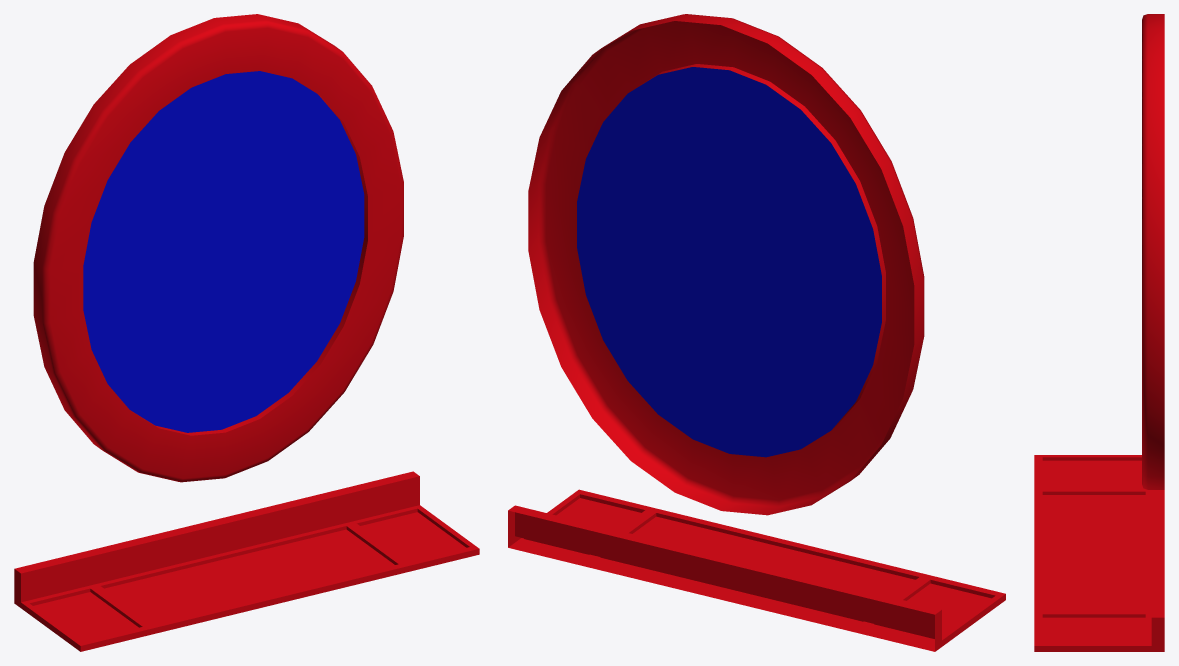
The model's file is bath_mirror.FBX.
3 views of the same model, side by side, from view 1: azimuth 30°, elevation 25°; view 2: azimuth 150°, elevation 25°; view 3: azimuth 270°, elevation 25° (orthographic). The views are drawn at different scales.
Parts seen in each view (by area): view 1: bath_mirror; view 2: bath_mirror; view 3: bath_mirror.
Boxes of the visible parts, left/top/right/bottom form: bath_mirror: left=14, top=14, right=479, bottom=651; bath_mirror: left=508, top=14, right=1005, bottom=651; bath_mirror: left=1034, top=14, right=1164, bottom=651.
Size of the model in its own units: 0.6 by 0.1724 by 0.7715.
